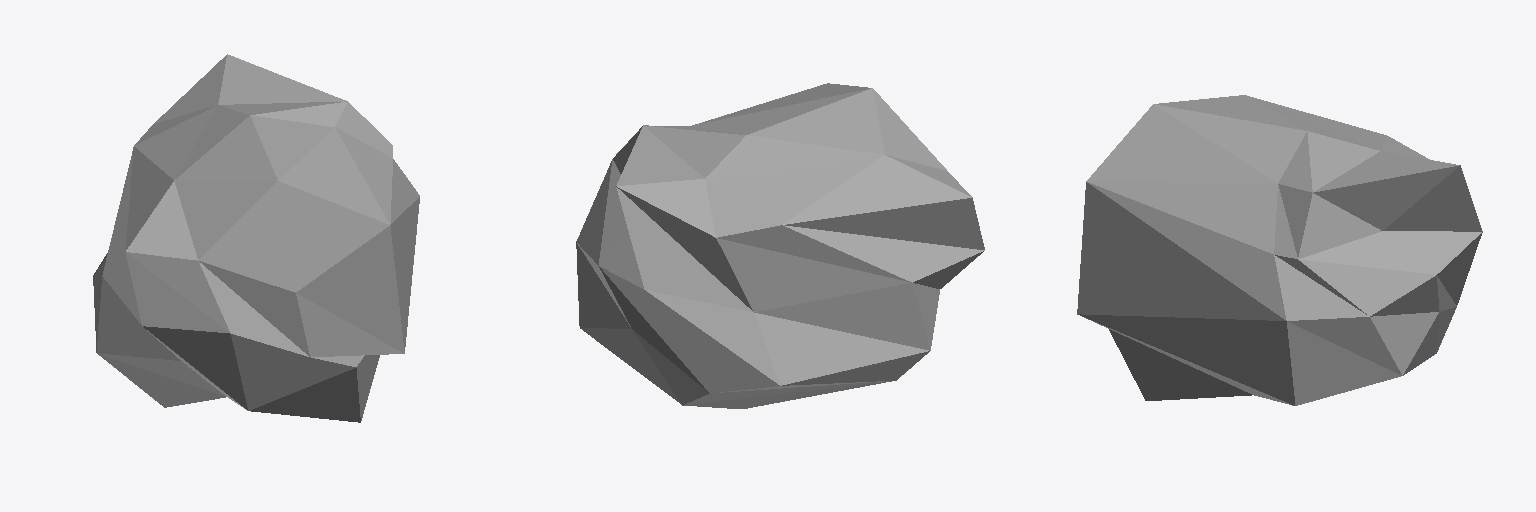
Rendered from rock2.obj.
3 renders of one model, left to right at view 1: azimuth 30°, elevation 25°; view 2: azimuth 150°, elevation 25°; view 3: azimuth 270°, elevation 25°, orthographic.
Parts seen in each view (by area): view 1: Icosphere; view 2: Icosphere; view 3: Icosphere.
Part boxes in pixels (x1,y1,x2,y2): Icosphere: (93,54,419,422); Icosphere: (576,83,984,408); Icosphere: (1077,95,1482,405).
Bounding box in the file's own units: 4.19 × 3.14 × 4.39.